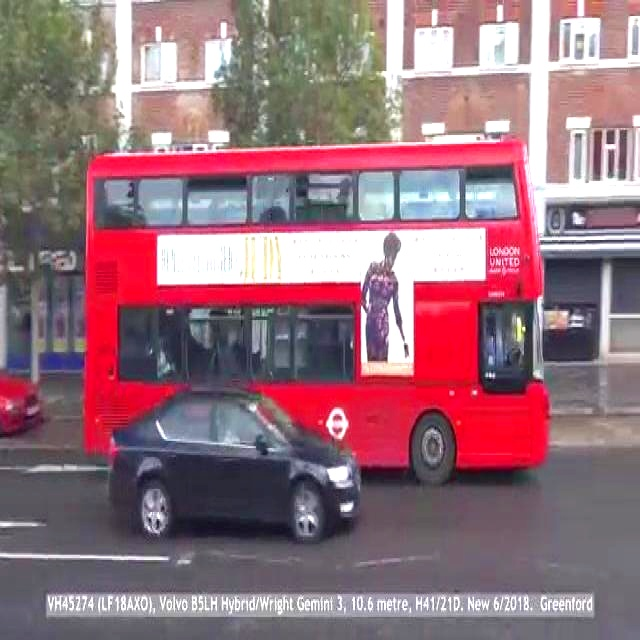bus: (57, 127, 576, 491)
car: (97, 377, 395, 551)
